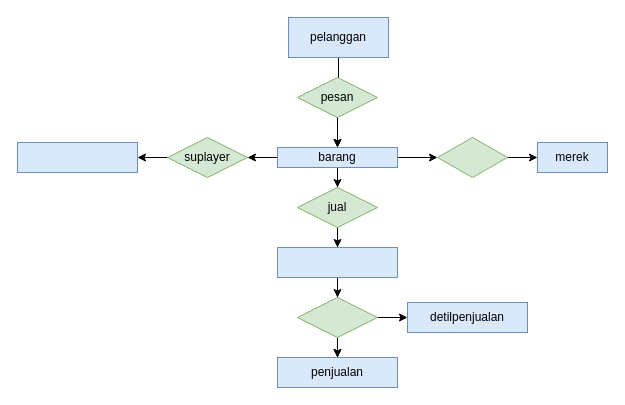
Image size: 625x405. Some labels were removed from this diagram. The shapes that lost their labels are listed below. From the top down, each one's box as (x1, y1, x2, y2) in pixels, then its label:
(16, 142, 138, 172): suplier
(436, 136, 508, 178): punya
(276, 246, 398, 278): user
(296, 296, 378, 338): rekap
